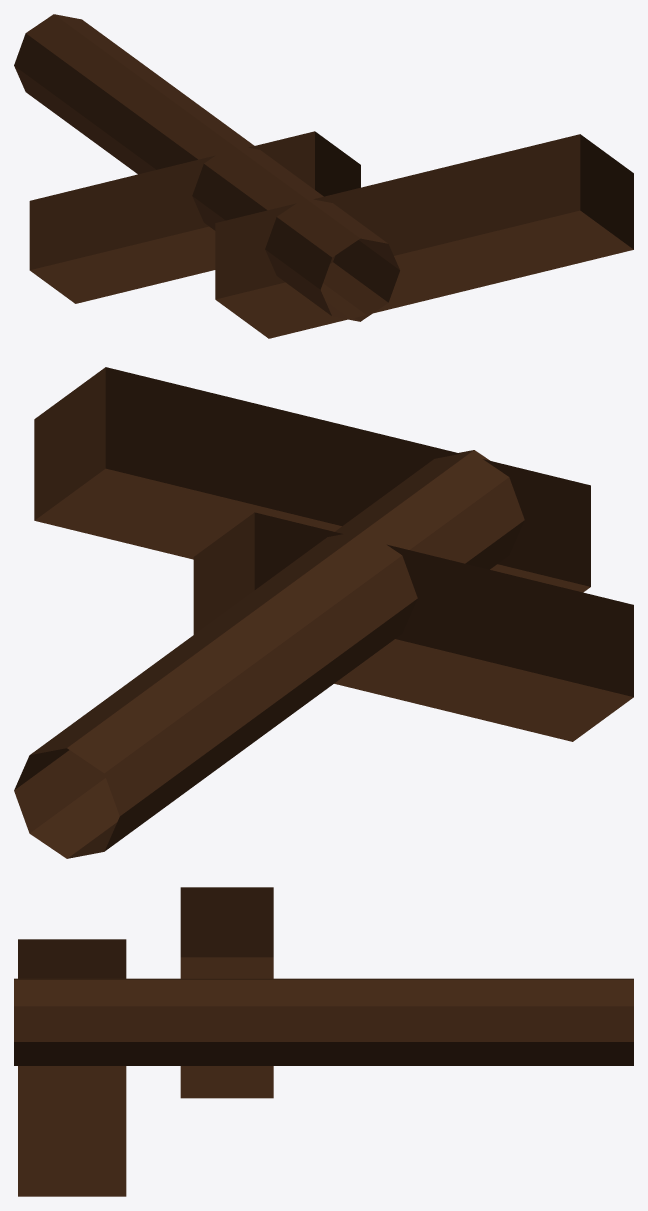
The model's file is SM_CommonPathMarker.obj.
3 renders of one model, top to bottom at view 1: azimuth 30°, elevation 25°; view 2: azimuth 150°, elevation 25°; view 3: azimuth 270°, elevation 25°, orthographic. The views are drawn at different scales.
Visible parts, largest first — view 1: SM_CommonPathMarker; view 2: SM_CommonPathMarker; view 3: SM_CommonPathMarker.
Boxes of the visible parts, x1,y1,x2,y2 form: SM_CommonPathMarker: (14,14,633,338); SM_CommonPathMarker: (14,367,633,858); SM_CommonPathMarker: (14,887,633,1196).
Bounding box in the file's own units: 144 × 24 × 160.
